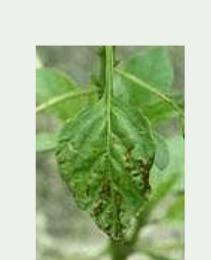Tomato leaf bacterial spot: (56, 94, 156, 251)
